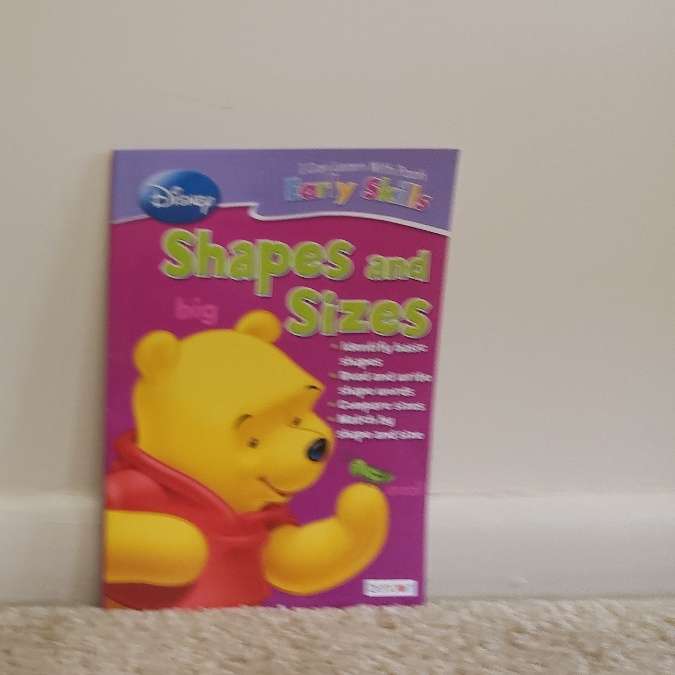book: (116, 153, 426, 602)
